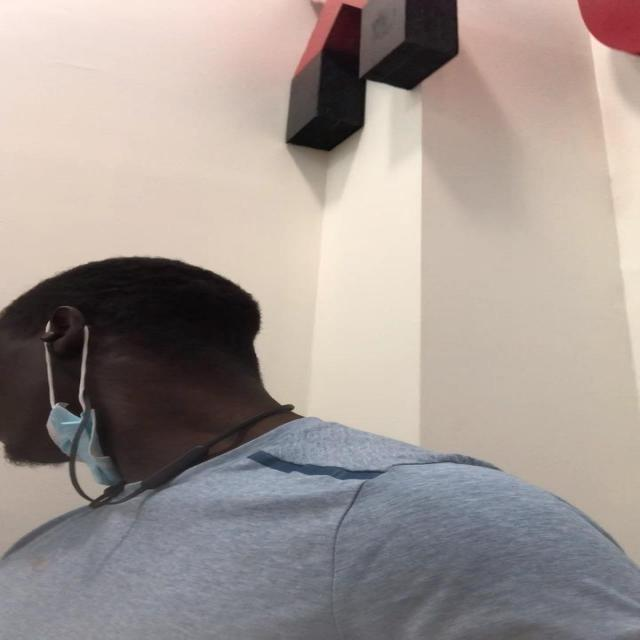face: (1, 299, 90, 465)
